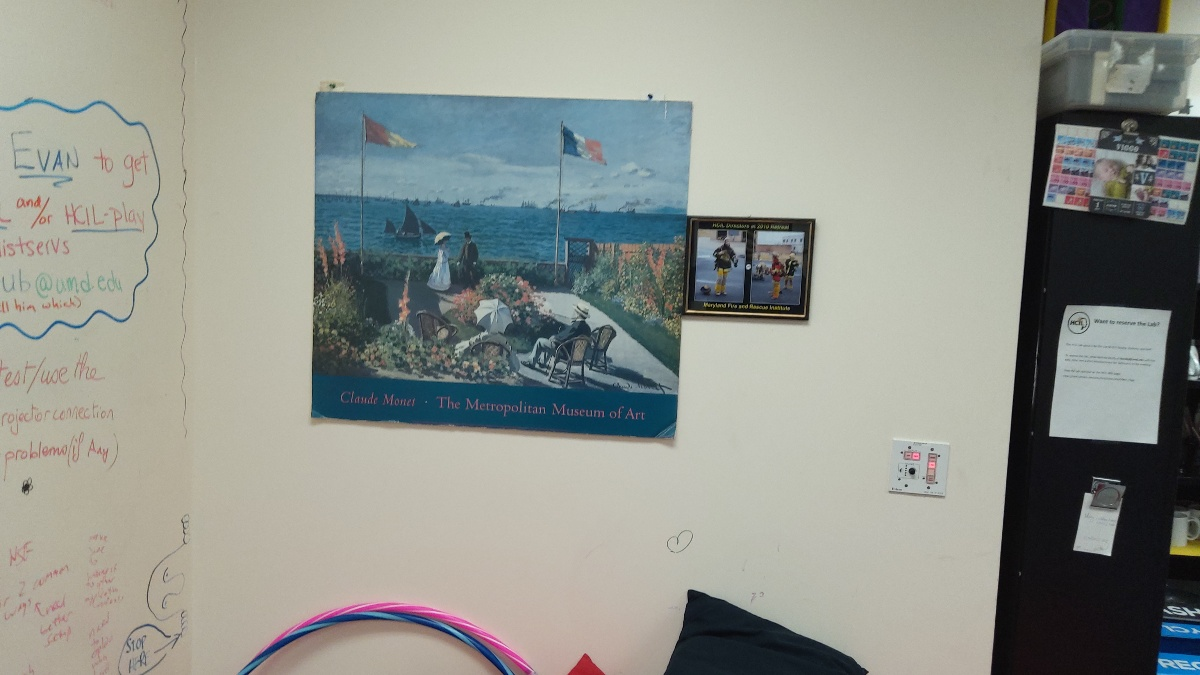poster: (304, 83, 697, 445)
